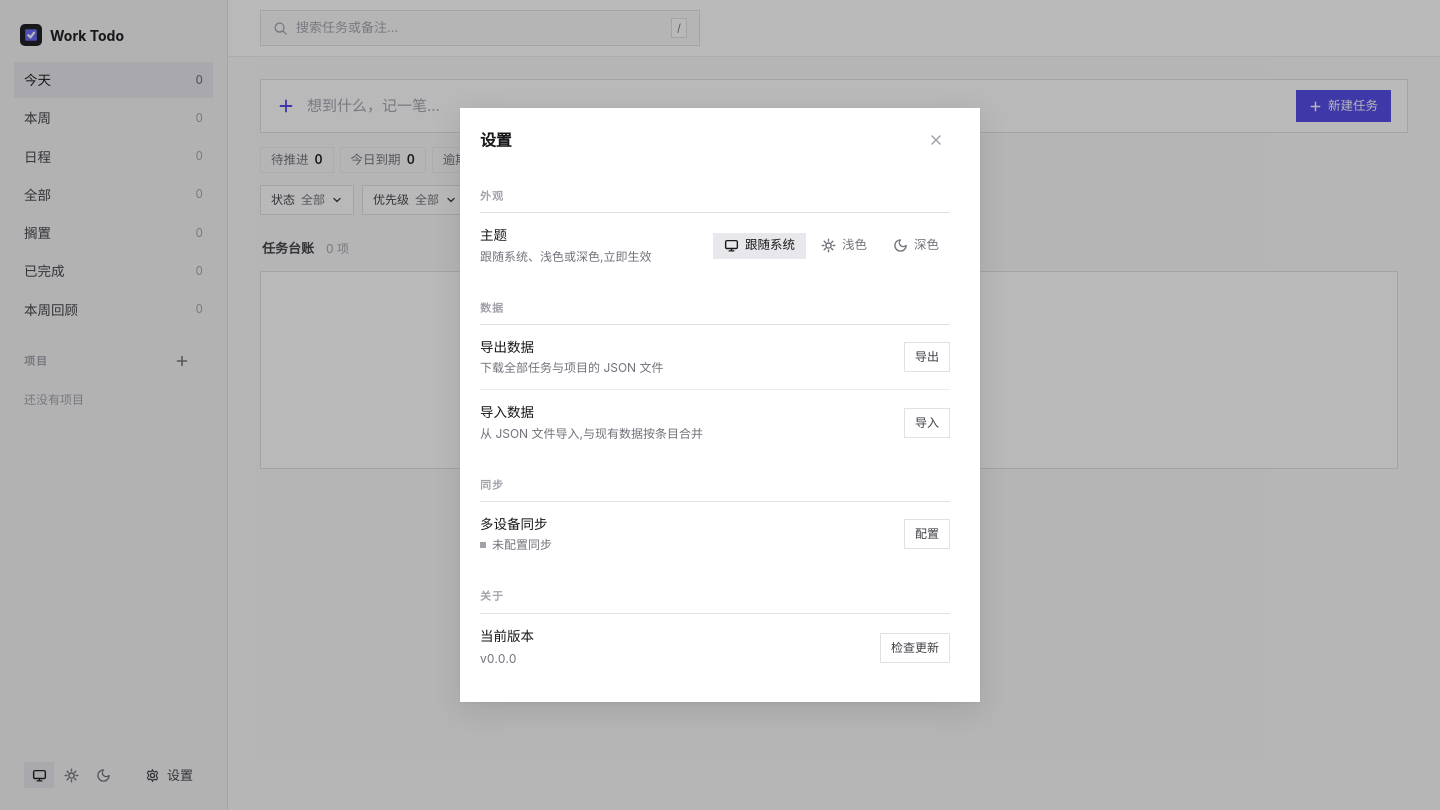
Test: sync settings modal › surfaces login failures in the modal
Click the button with id "btn-sync-settings".
click(927, 534)  # box [904, 519, 950, 549]
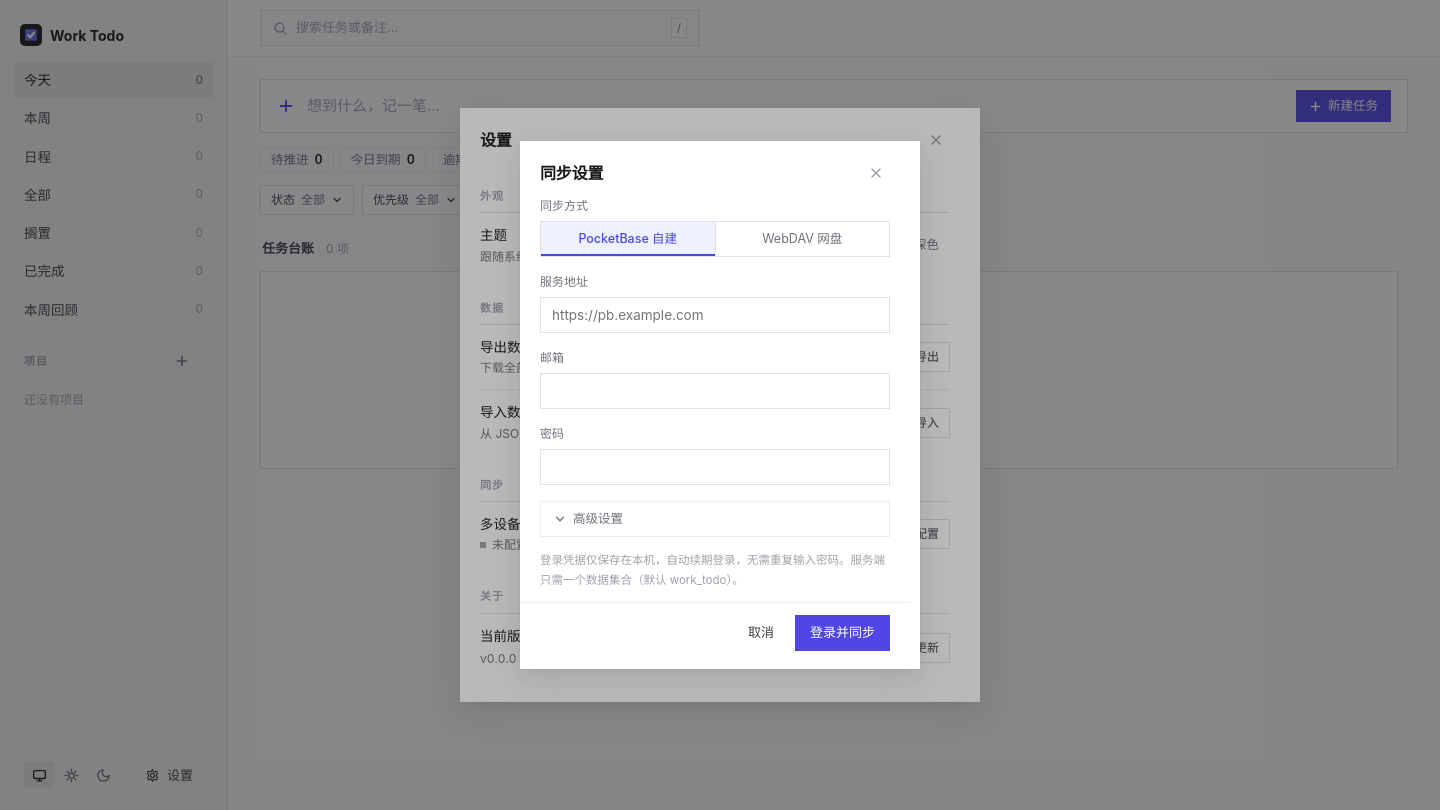
Click the button "WebDAV 网盘".
click(802, 239)  # box [714, 222, 889, 256]
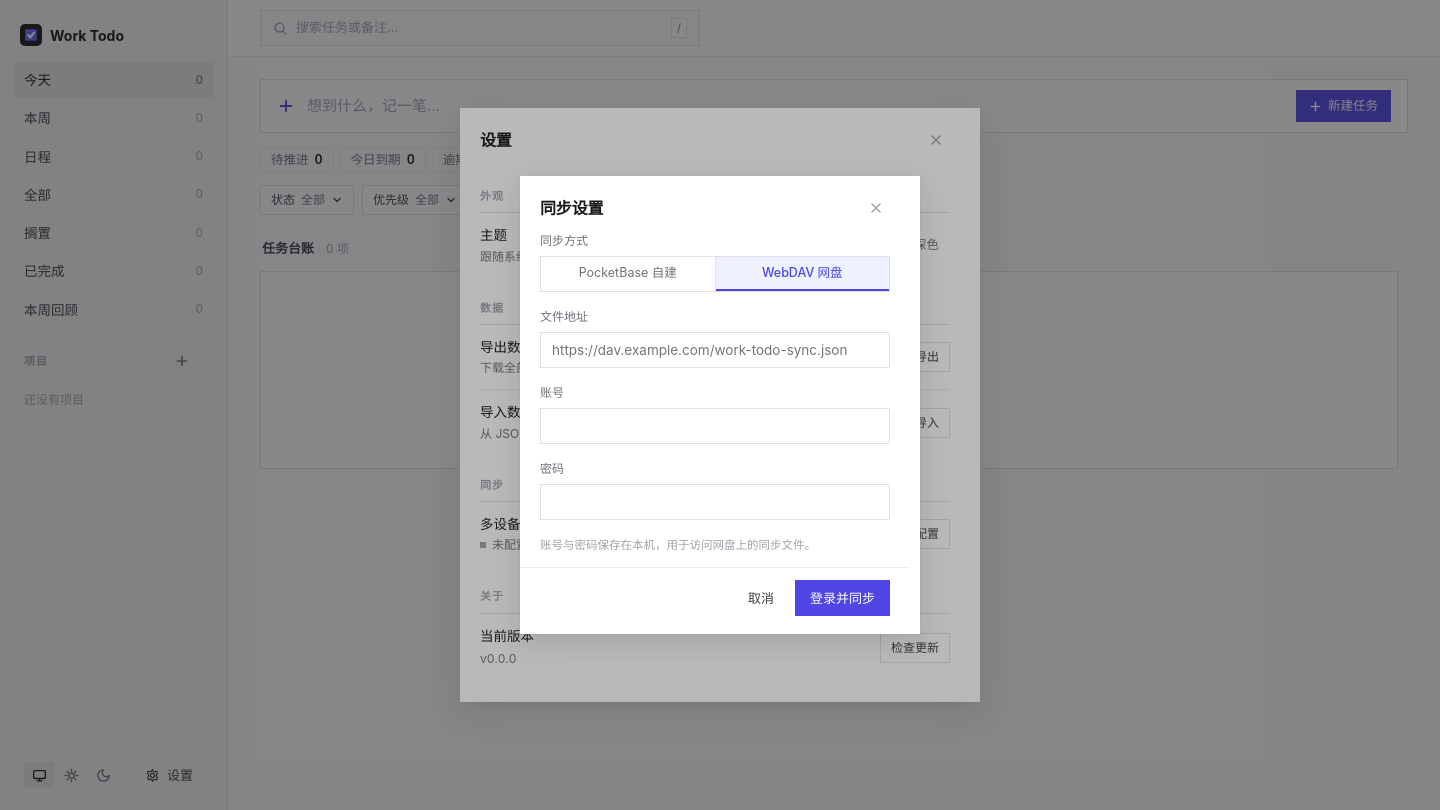
Type "https://dav.example.com/f.json" into the field with id "field-sync-url".
click(715, 350); type("https://dav.example.com/f.json")  # box [540, 332, 890, 368]
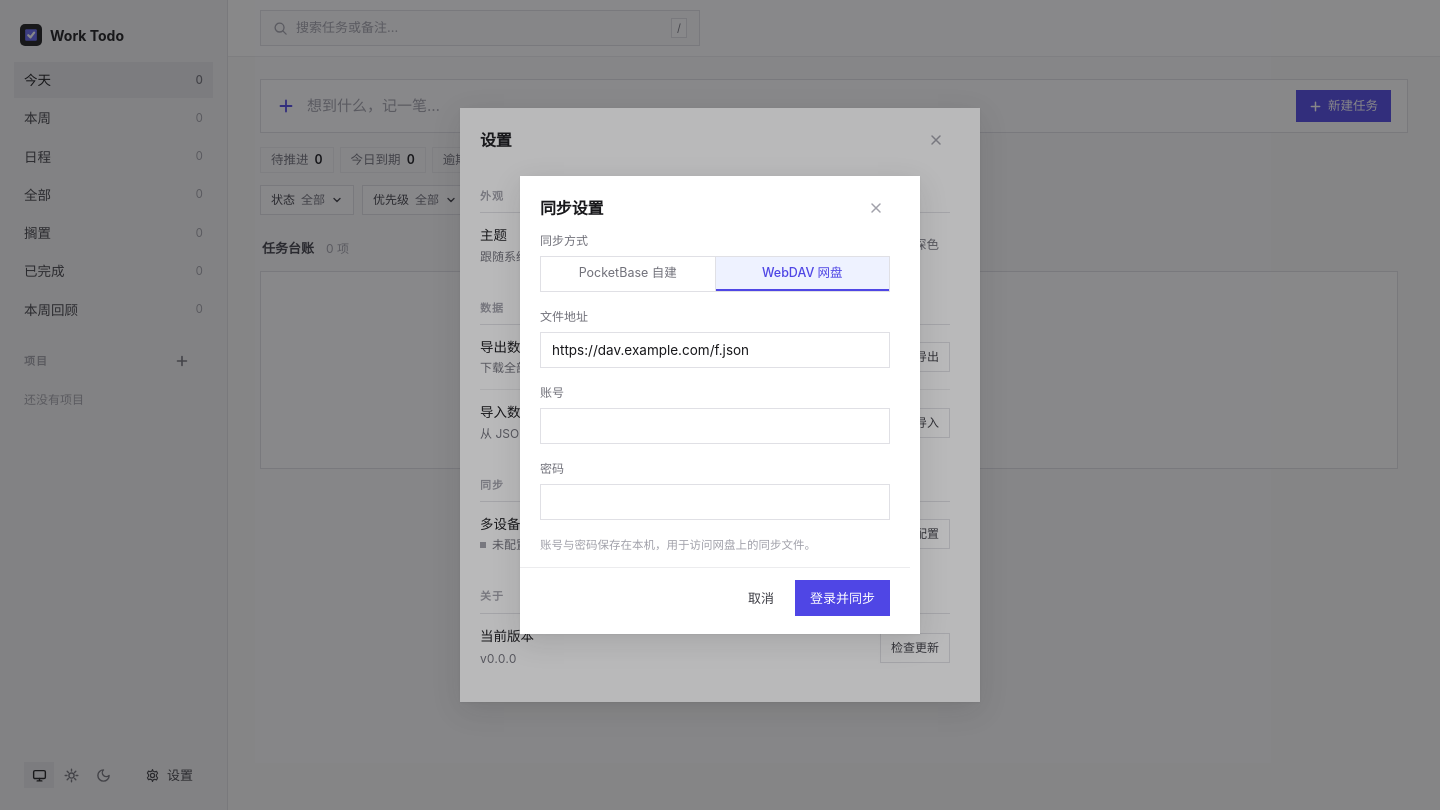
Type "user" into the field with id "field-sync-identity".
click(715, 426); type("user")  # box [540, 408, 890, 444]
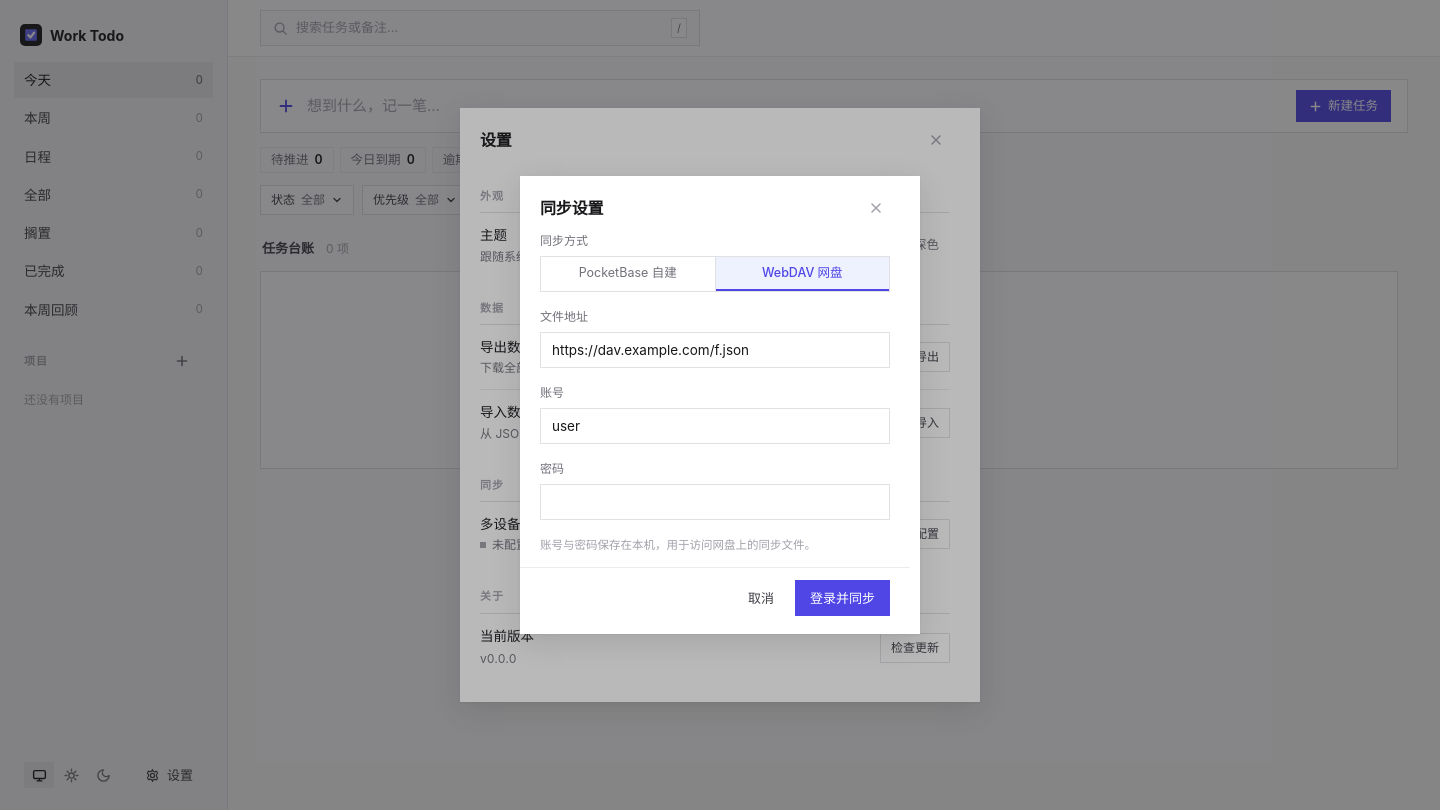
Type "bad" into the password field with id "field-sync-password".
click(715, 502); type("bad")  # box [540, 484, 890, 520]
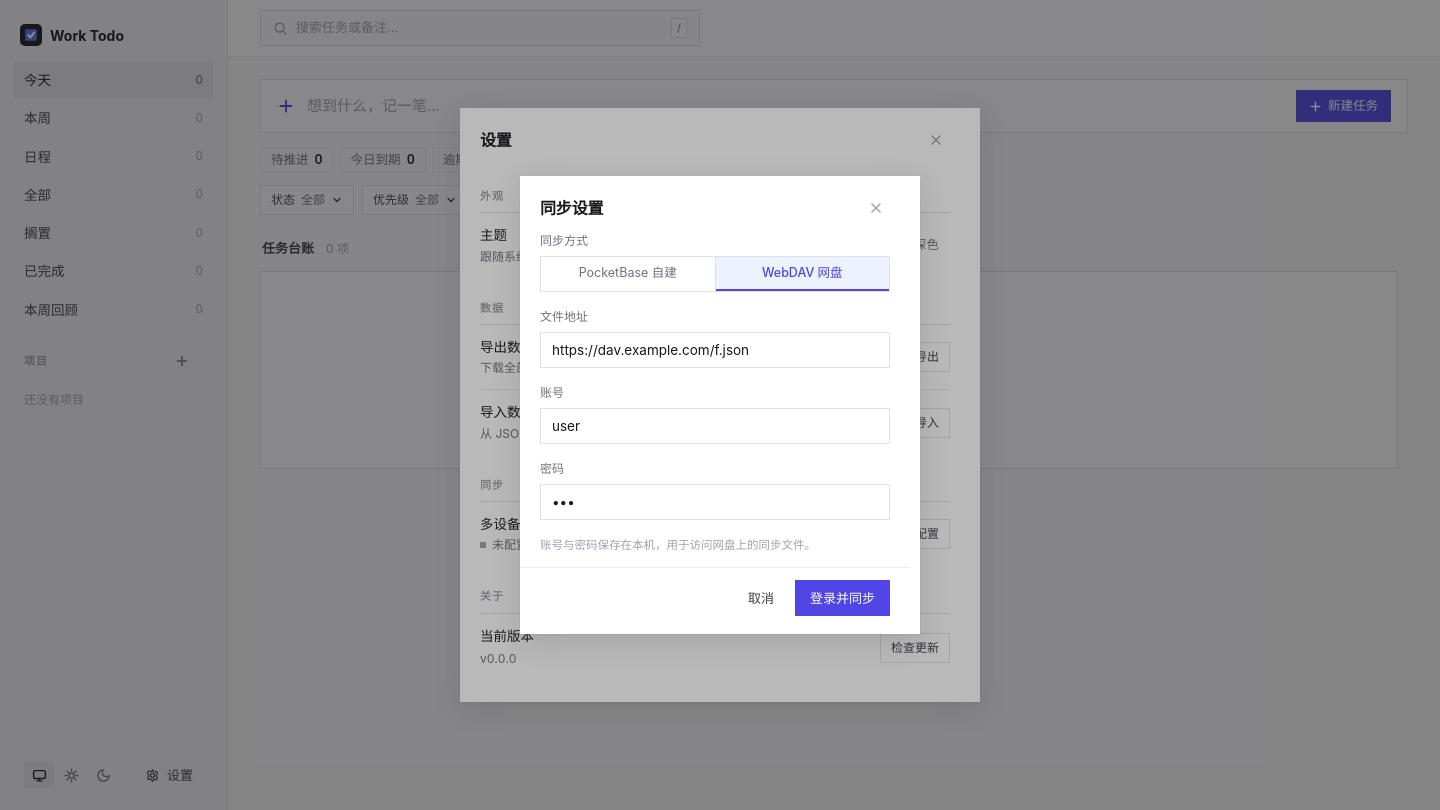
Click the button with id "btn-sync-login".
click(842, 598)  # box [795, 580, 890, 616]
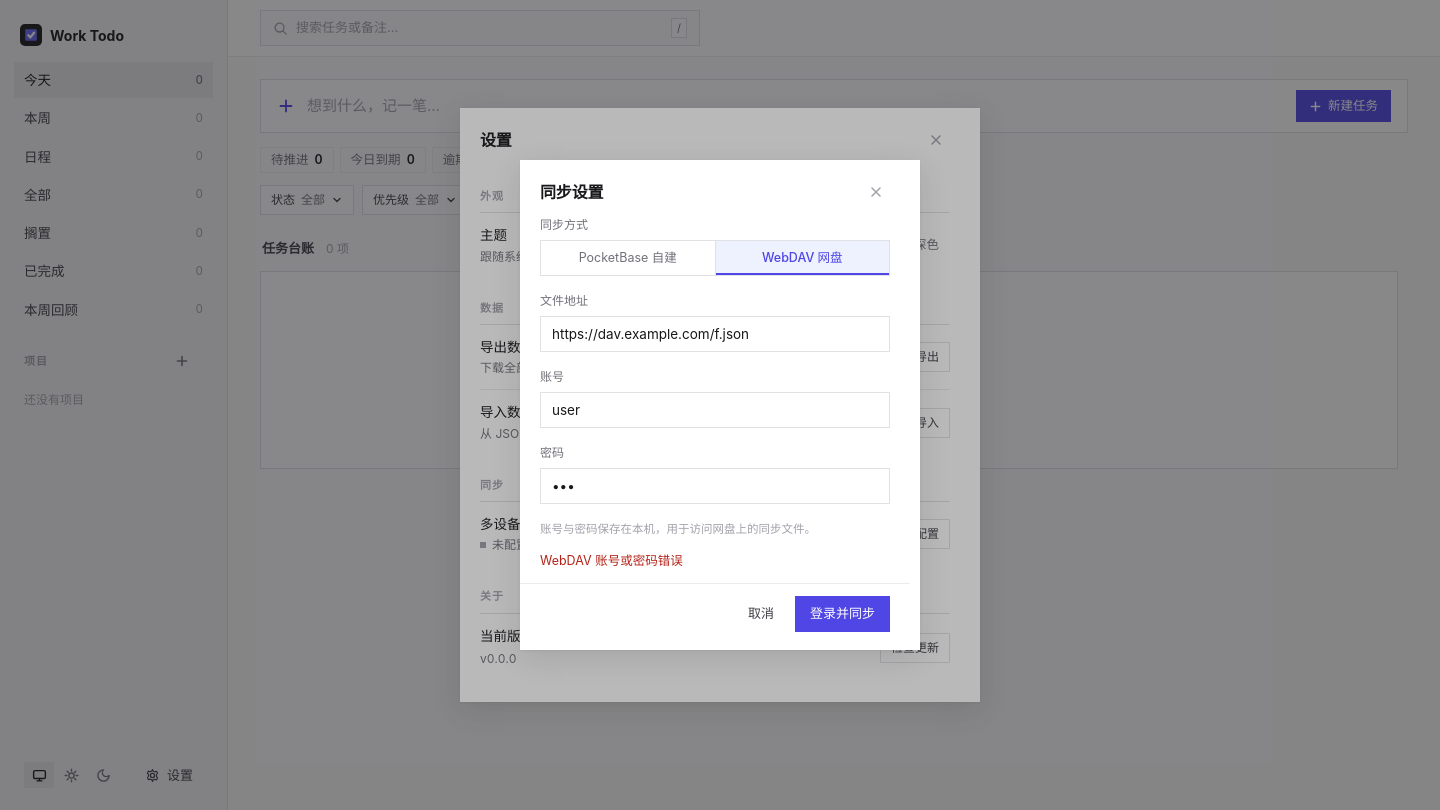
expect the message with id "sync-error" shows "账号或密码": met, box [540, 553, 683, 568]
